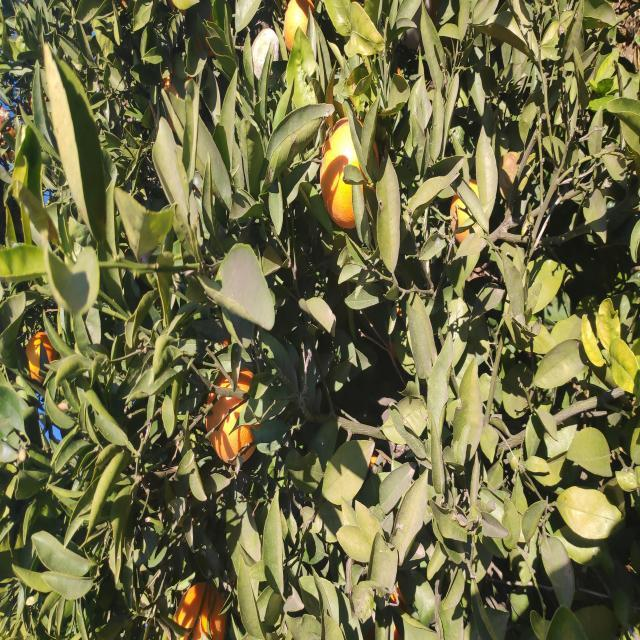Jeruk Sudah Matang: (412, 320, 524, 378), (175, 204, 276, 256), (0, 167, 59, 227), (400, 450, 460, 480), (589, 283, 640, 315), (260, 28, 308, 56)
